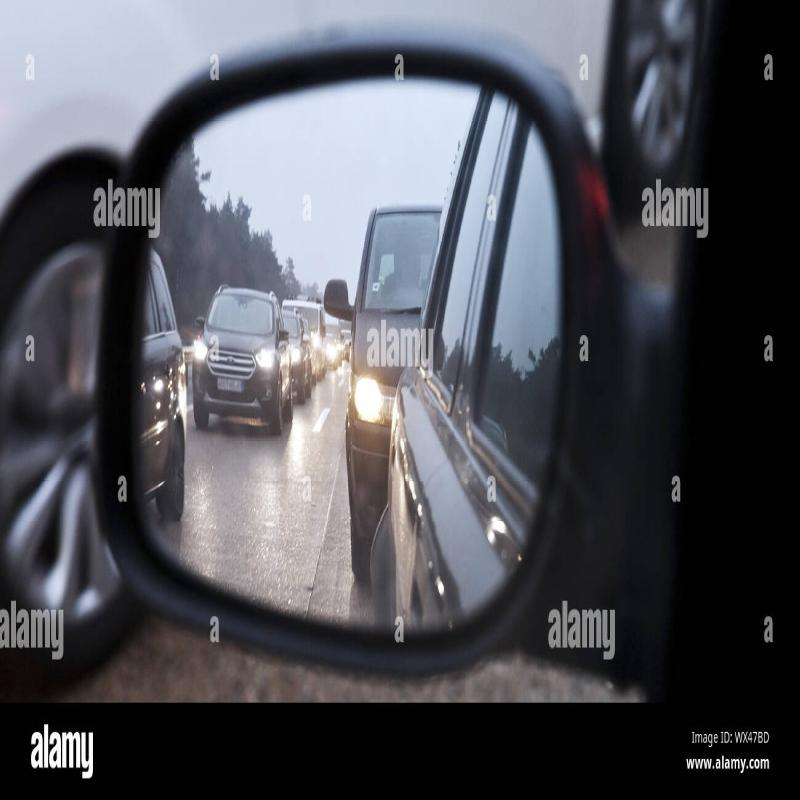car: (346, 197, 460, 579), (190, 287, 289, 430)
